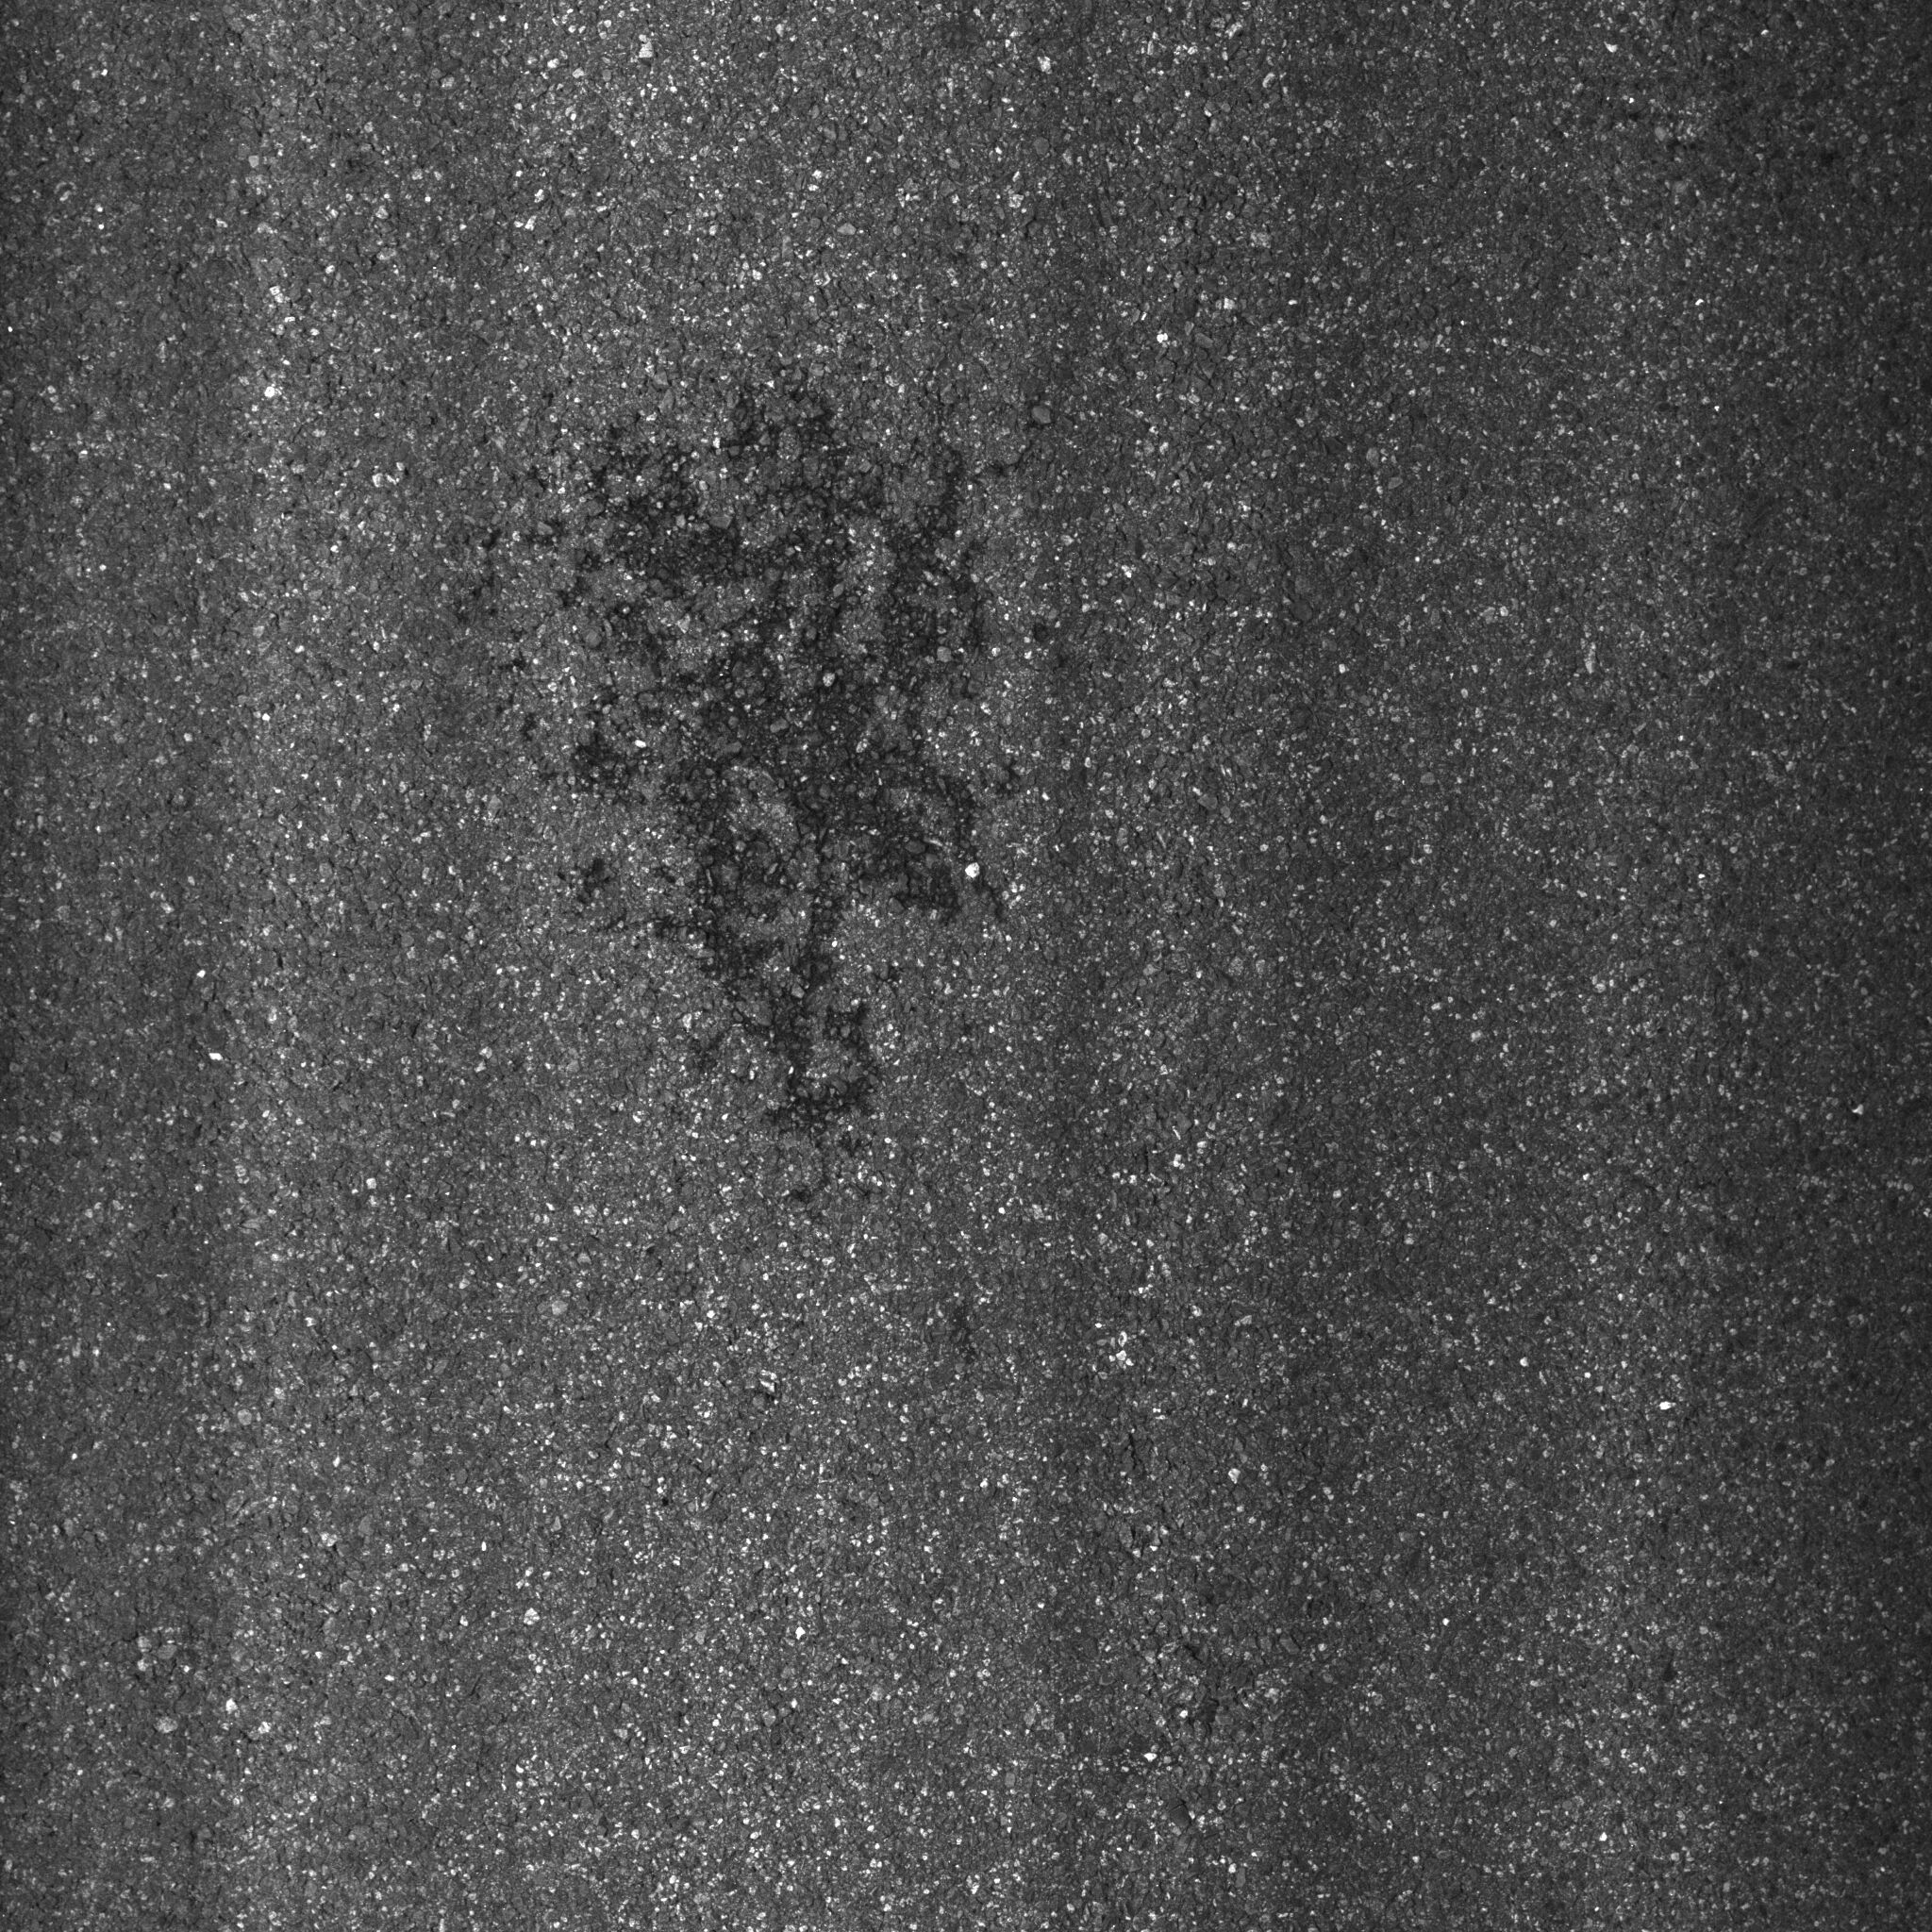alligator: (363, 334, 1129, 1159)
